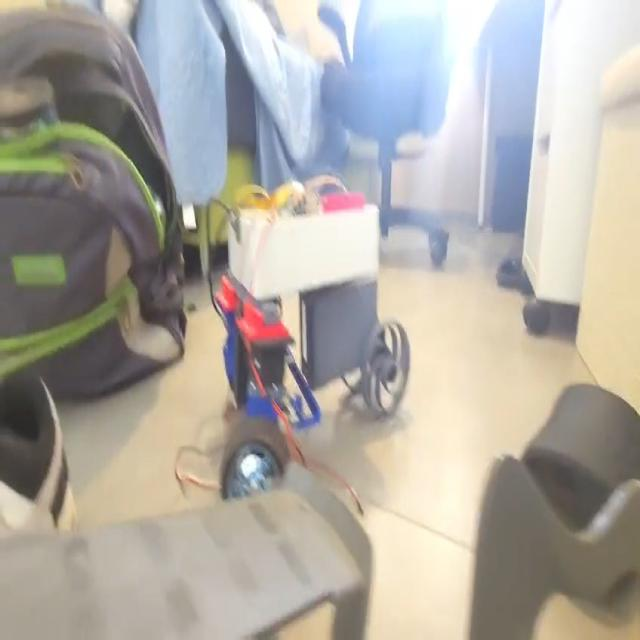Robot: (213, 184, 410, 500)
